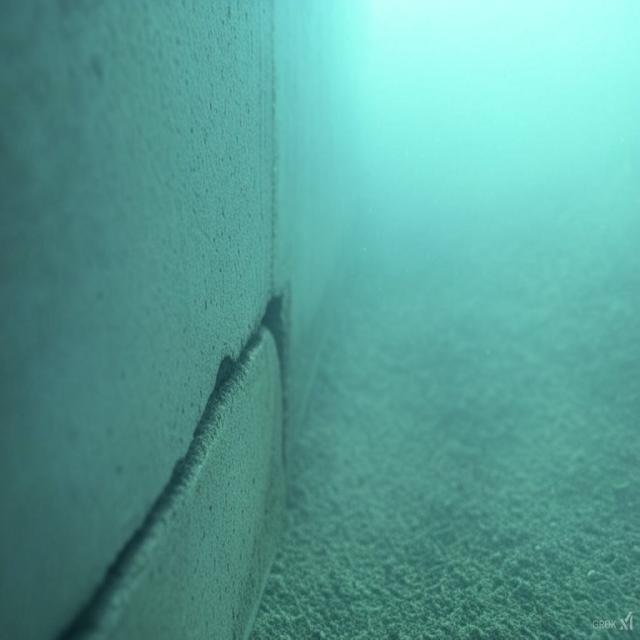crack: (53, 289, 309, 640)
